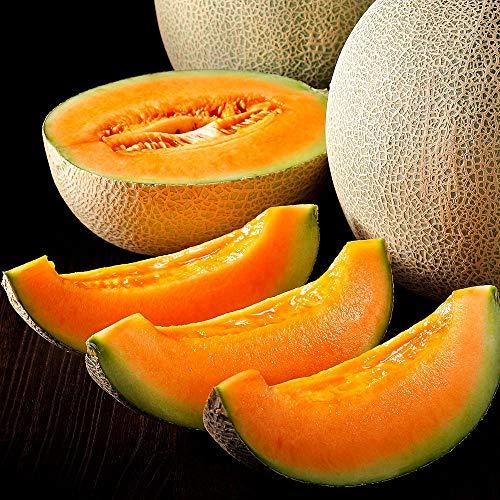Melon Ripe: (327, 0, 500, 284), (44, 67, 326, 186), (153, 0, 375, 69)
Orange Overripe: (203, 284, 500, 487), (84, 239, 393, 425), (1, 205, 331, 352)
